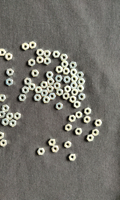nut: (5, 53, 13, 61), (29, 41, 37, 49), (43, 50, 51, 58), (36, 56, 44, 64), (28, 59, 36, 67), (24, 78, 32, 86), (34, 94, 42, 102), (56, 89, 64, 97), (0, 140, 8, 148), (69, 115, 77, 123), (92, 129, 100, 137), (69, 154, 77, 162), (37, 148, 45, 156), (22, 43, 29, 51), (53, 51, 61, 58), (60, 54, 68, 61), (6, 69, 14, 76), (31, 70, 39, 77), (6, 78, 13, 86), (61, 61, 69, 68), (56, 66, 63, 74), (70, 69, 78, 76), (46, 72, 54, 79), (71, 76, 79, 83), (64, 76, 71, 84), (78, 79, 86, 86), (29, 83, 36, 91), (22, 86, 29, 94), (19, 95, 27, 102), (47, 79, 55, 86), (41, 81, 48, 89), (35, 87, 43, 94), (54, 82, 61, 90), (41, 90, 49, 97), (64, 86, 72, 93), (71, 89, 79, 96), (43, 97, 51, 104), (79, 93, 86, 101), (74, 101, 81, 109), (2, 105, 10, 112), (6, 113, 14, 120), (76, 111, 83, 119), (84, 116, 91, 124), (95, 120, 103, 127), (65, 124, 72, 132), (75, 128, 83, 135), (87, 135, 95, 142), (65, 141, 72, 149), (37, 49, 44, 56), (44, 58, 51, 65), (70, 62, 77, 69), (63, 68, 70, 75), (77, 72, 84, 79), (47, 86, 54, 93), (71, 82, 78, 89), (63, 93, 70, 100), (49, 93, 56, 100), (56, 103, 63, 110), (70, 96, 77, 103), (14, 113, 21, 120), (2, 119, 9, 126), (85, 108, 92, 115), (49, 139, 56, 146), (52, 146, 59, 153), (55, 76, 63, 82), (77, 86, 85, 92), (0, 49, 6, 56), (0, 95, 6, 102), (0, 111, 6, 118), (0, 132, 4, 140)
